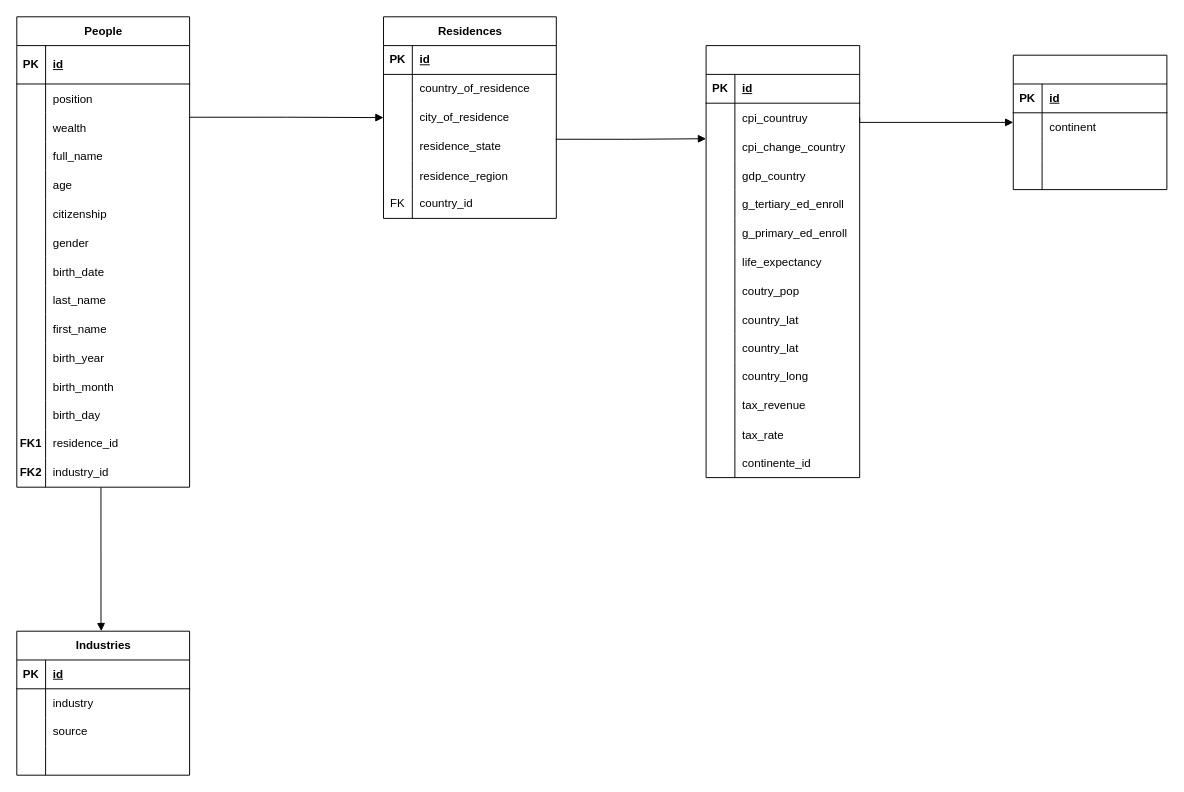
Image size: 1184x792. Some labels were removed from this diagram. Each missing label, with the box of its shape:
Continents: (1012, 54, 1167, 190)
Countries: (705, 45, 860, 478)
